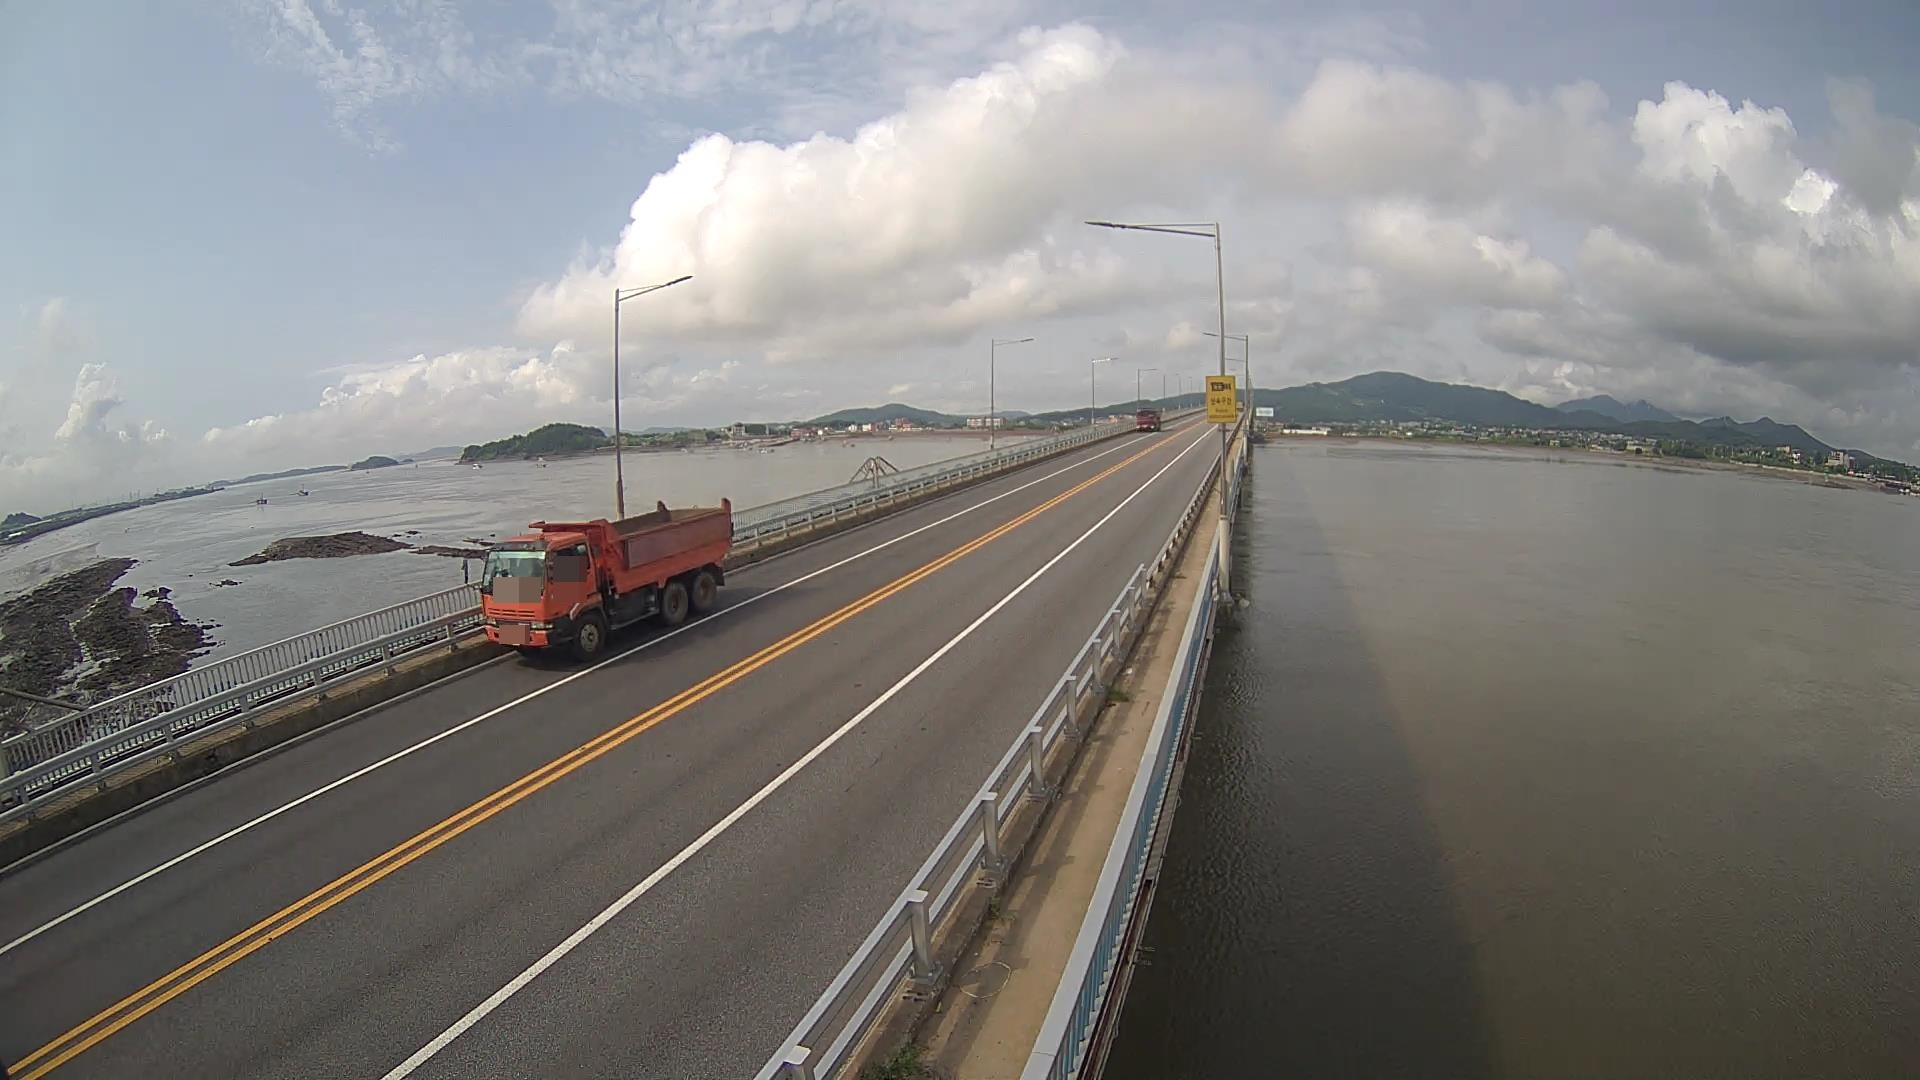정상차량: (460, 497, 735, 659)
